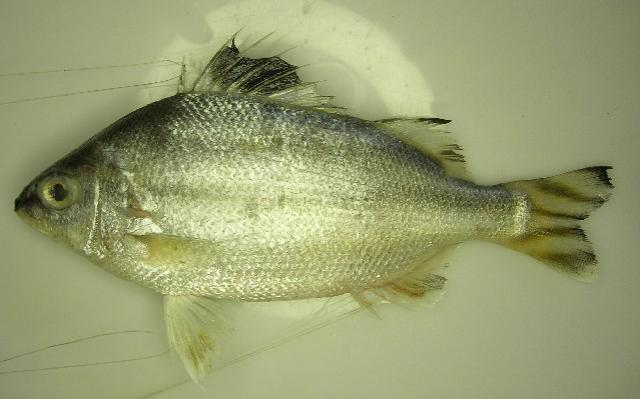Mulut: (6, 182, 64, 258)
Sirip Anal: (352, 247, 456, 324)
Sirip Dada: (128, 222, 232, 286)
Sirip Ekor: (508, 150, 628, 288)
Sirip Perut: (158, 292, 246, 392)
Sirip Punggung: (178, 24, 478, 178)
